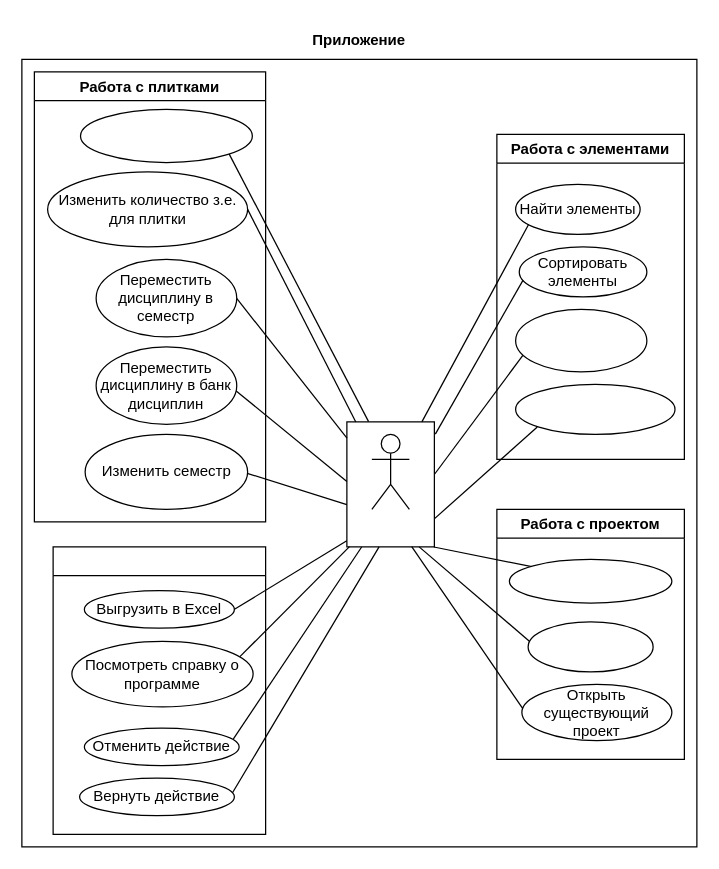
This 719x869 diagram has some shape labels left out. Here are the shapes that lost their labels. From the top down, the box of each, then its label:
(79, 108, 252, 162): Изменить банк дисциплин
(514, 308, 647, 372): Редактировать элементы
(514, 383, 675, 434): Редактировать категории
(371, 433, 409, 509): Методист
(508, 558, 672, 603): Сохранить проект
(527, 621, 653, 672): Создать проект
(52, 546, 266, 834): Прочие функции
